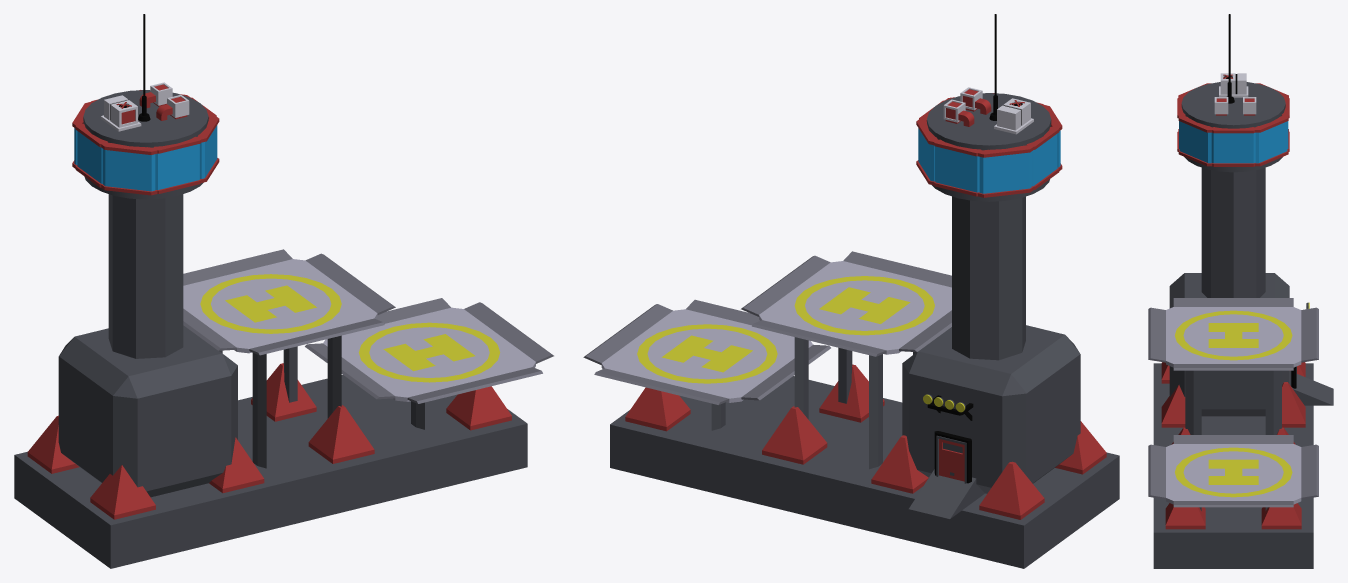
The model's file is droneTower.fbx.
The picture shows the model from 3 angles, left to right: view 1: azimuth 30°, elevation 25°; view 2: azimuth 150°, elevation 25°; view 3: azimuth 270°, elevation 25°; orthographic projection. The views are drawn at different scales.
Parts seen in each view (by area): view 1: block_default_18, block_rounded_1, roof_helipad_30, roof_helipad_31, cylinder_vertex_8, cylinder_full_17, wall_skyscraperGlass%_13, roof_point_rounded_34, wall_skyscraperGlass%_12, roof_point_rounded_4, roof_point_rounded_35, wall_border_29 (+7 smaller); view 2: block_default_18, block_rounded_1, roof_helipad_30, roof_helipad_31, cylinder_vertex_8, cylinder_full_17, wall_skyscraperGlass%_16, roof_point_rounded_3, roof_point_rounded_33, wall_skyscraperGlass%_11, slope_default_6, roof_point_rounded_32 (+9 smaller); view 3: block_default_18, roof_helipad_30, roof_helipad_31, cylinder_vertex_8, block_rounded_1, cylinder_full_17, wall_border_29, wall_skyscraperGlass%_9, wall_skyscraperGlass%_15, wall_skyscraperGlass%_14, roof_point_rounded_35, roof_point_rounded_32 (+7 smaller).
Boxes of the visible parts, box(x1,y1,x2,y2) form: block_default_18: box(14, 375, 527, 568); block_rounded_1: box(58, 325, 237, 497); roof_helipad_30: box(183, 249, 395, 355); roof_helipad_31: box(305, 298, 553, 403); cylinder_vertex_8: box(108, 194, 183, 358); cylinder_full_17: box(83, 90, 208, 199); wall_skyscraperGlass%_13: box(101, 142, 157, 195); roof_point_rounded_34: box(308, 405, 374, 463); wall_skyscraperGlass%_12: box(152, 136, 202, 193); roof_point_rounded_4: box(90, 465, 155, 519); roof_point_rounded_35: box(446, 386, 511, 430); wall_border_29: box(283, 335, 341, 418); block_default_18: box(610, 376, 1119, 568); block_rounded_1: box(902, 325, 1080, 493); roof_helipad_30: box(741, 251, 951, 356); roof_helipad_31: box(583, 299, 830, 404); cylinder_vertex_8: box(952, 196, 1025, 360); cylinder_full_17: box(927, 93, 1051, 201); wall_skyscraperGlass%_16: box(978, 145, 1033, 197); roof_point_rounded_3: box(979, 461, 1044, 519); roof_point_rounded_33: box(762, 406, 827, 464); wall_skyscraperGlass%_11: box(933, 139, 982, 196); slope_default_6: box(909, 469, 984, 518); roof_point_rounded_32: box(625, 387, 690, 431); block_default_18: box(1153, 363, 1313, 568); roof_helipad_30: box(1148, 298, 1318, 370); roof_helipad_31: box(1148, 435, 1318, 507); cylinder_vertex_8: box(1201, 167, 1265, 297); block_rounded_1: box(1169, 273, 1289, 416); cylinder_full_17: box(1181, 82, 1285, 172); wall_border_29: box(1185, 370, 1281, 434); wall_skyscraperGlass%_9: box(1210, 127, 1257, 166); wall_skyscraperGlass%_15: box(1178, 115, 1212, 166); wall_skyscraperGlass%_14: box(1255, 115, 1288, 166); roof_point_rounded_35: box(1165, 503, 1205, 529); roof_point_rounded_32: box(1261, 503, 1301, 529).
Bounding box in the file's own units: 109 × 115 × 46.32.
